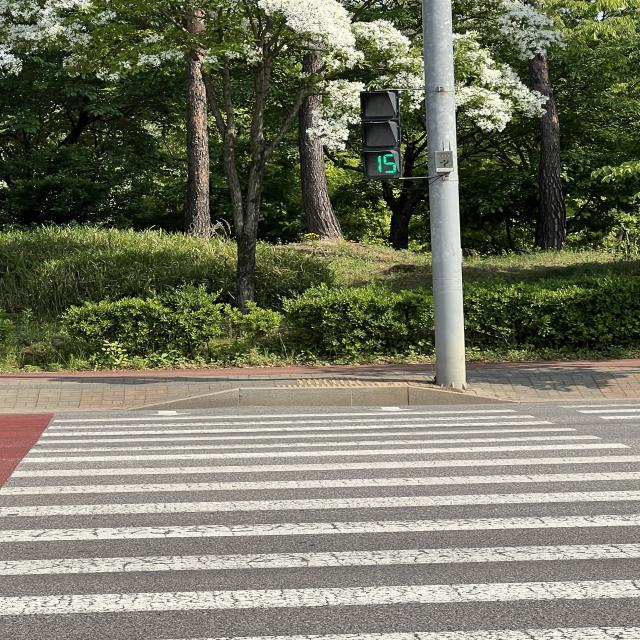crosswalk: (3, 398, 640, 640)
green-light: (363, 85, 418, 200)
